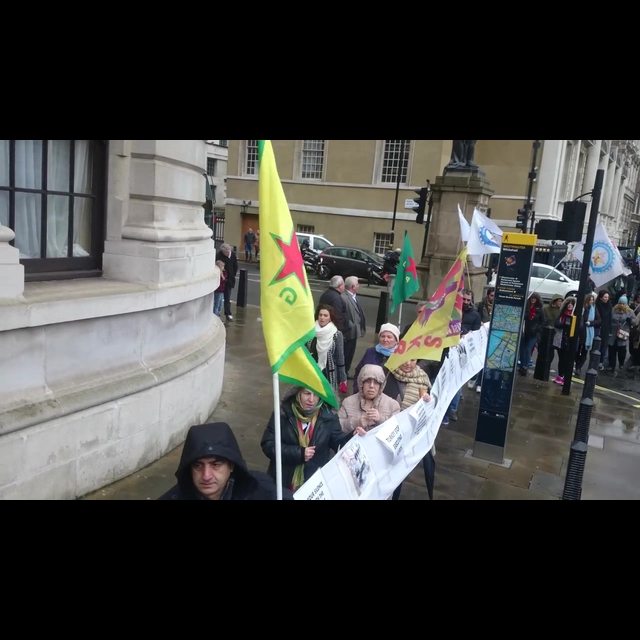YPG: (255, 139, 340, 410)
YPJ: (392, 226, 423, 319)
